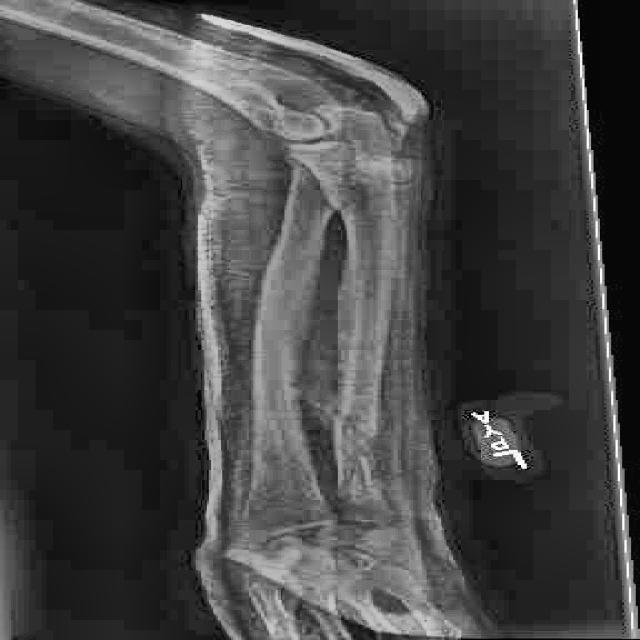forearm fracture: (314, 384, 415, 475)
